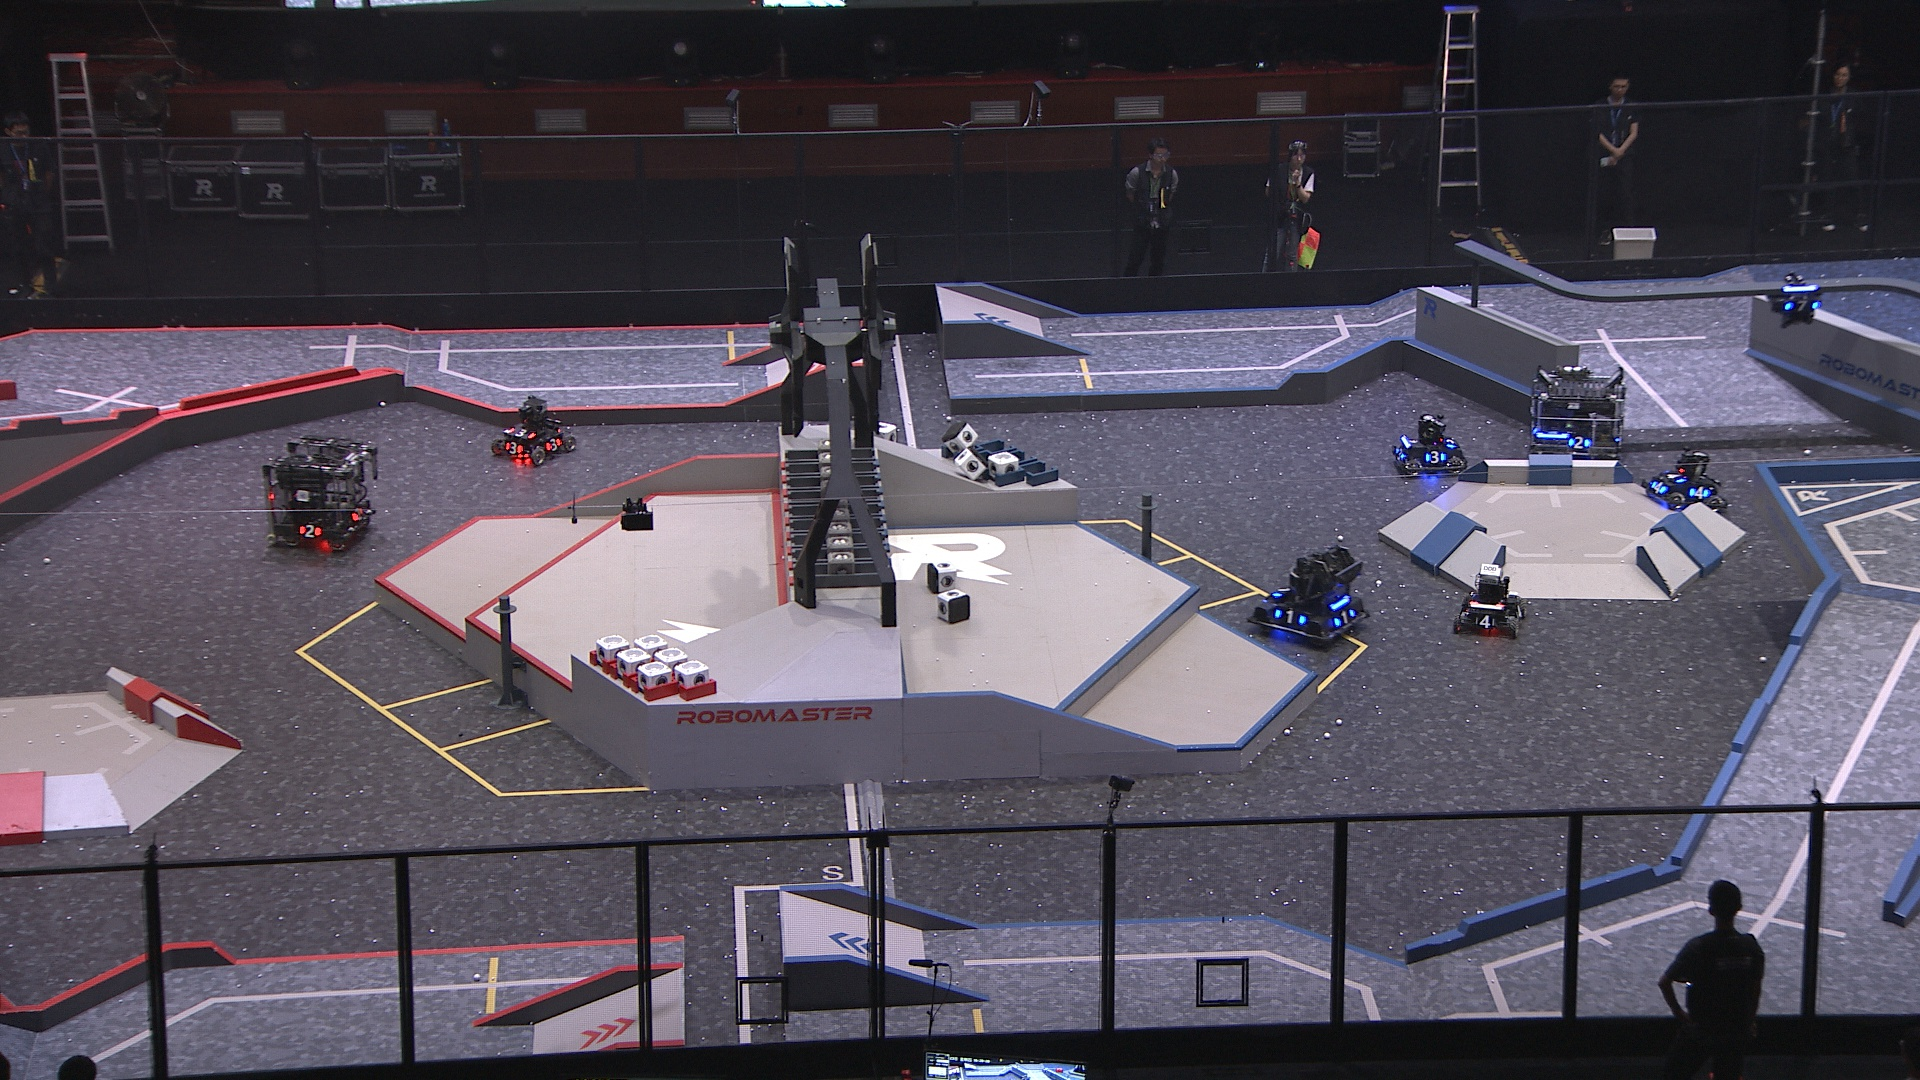armor: (1273, 608, 1305, 626), (1784, 299, 1820, 314), (1662, 469, 1685, 488), (295, 522, 323, 537), (1335, 608, 1356, 626), (1564, 436, 1593, 450), (504, 440, 524, 458), (1423, 450, 1448, 463), (510, 425, 533, 439), (1651, 477, 1669, 495), (543, 436, 562, 452), (351, 502, 365, 522), (1390, 443, 1404, 462), (1476, 615, 1495, 628), (1689, 485, 1708, 498), (1441, 434, 1456, 450), (1273, 584, 1290, 597), (1515, 603, 1524, 622)
car: (261, 433, 380, 549), (1245, 542, 1371, 647), (1524, 363, 1631, 469), (1451, 556, 1534, 645), (489, 394, 578, 469), (1387, 413, 1474, 483), (1646, 450, 1731, 513)
watcher: (1770, 268, 1822, 328)
